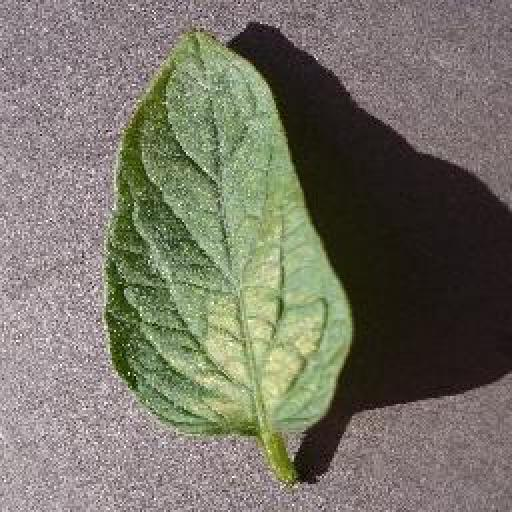disease_tomato: (100, 25, 356, 439)
